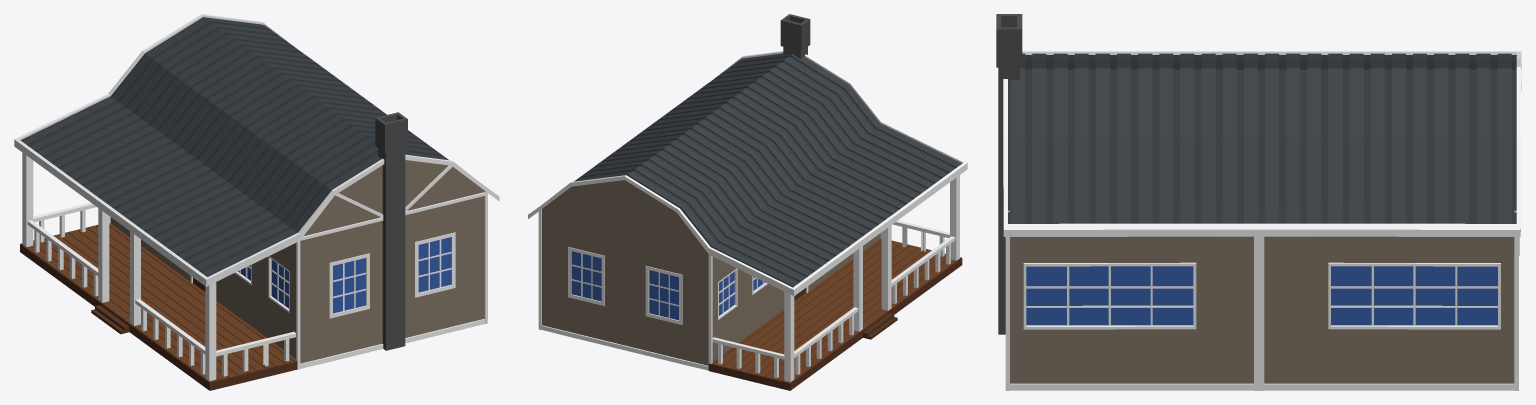
Rendered from FarmHouse_2.fbx.
3 renders of one model, left to right at view 1: azimuth 30°, elevation 25°; view 2: azimuth 150°, elevation 25°; view 3: azimuth 270°, elevation 25°, orthographic. The views are drawn at different scales.
Parts seen in each view (by area): view 1: FarmHouse_2; view 2: FarmHouse_2; view 3: FarmHouse_2.
Part boxes in pixels (x1,y1,x2,y2): FarmHouse_2: (14,14,499,390); FarmHouse_2: (528,14,967,390); FarmHouse_2: (996,14,1521,390).
Size of the model in its own units: 587 by 427 by 664.
